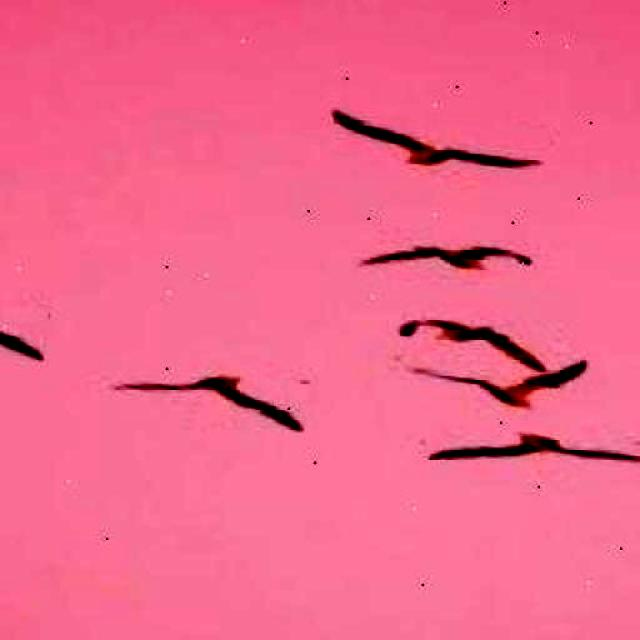airplane: (325, 106, 548, 178), (109, 362, 309, 431), (409, 342, 591, 416), (421, 421, 640, 481), (392, 311, 555, 372), (359, 232, 532, 284), (0, 289, 48, 362)
